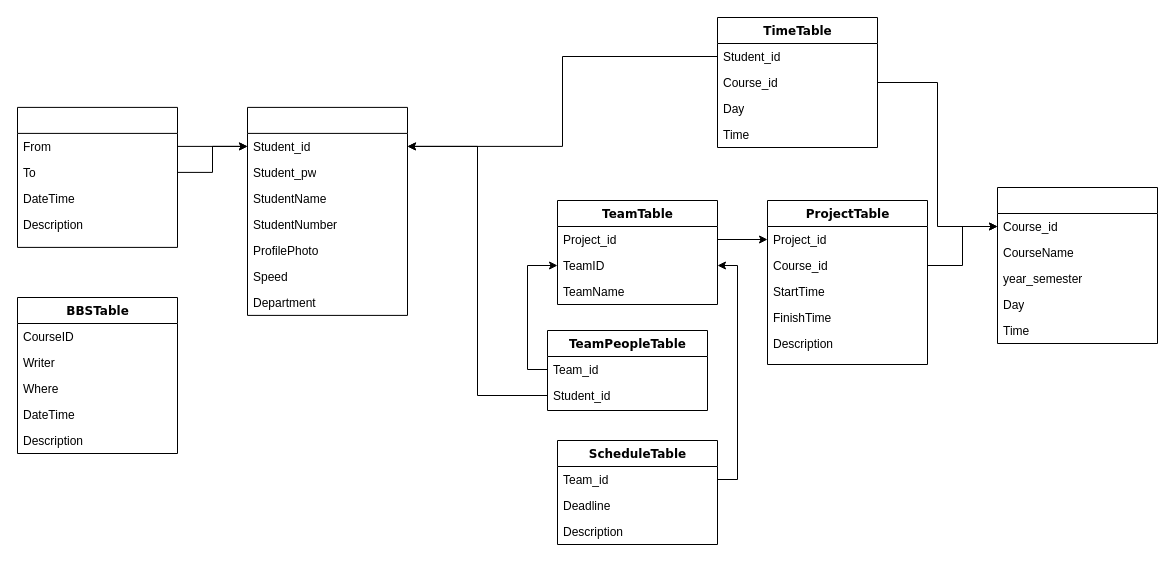
Image size: 1175x565. Some labels were removed from this diagram. The shapes that lost their labels are listed below. From the top down, each one's box as (x1, y1, x2, y2) in pixels, then its label:
(16, 106, 178, 247): ChatTable
(246, 106, 408, 315): StudentTable
(996, 186, 1158, 344): CourseTable
